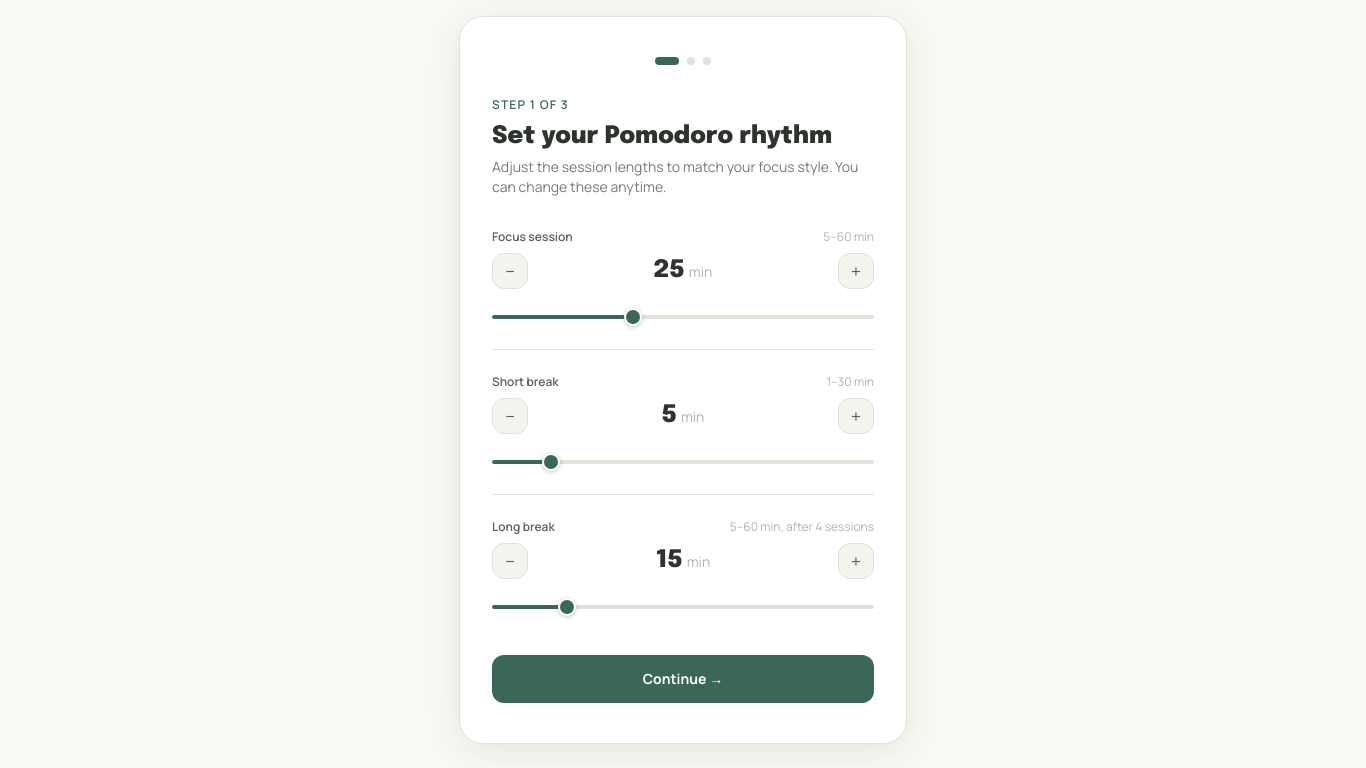
it: ON-02: clicking Continue advances to step 2
(page scrolled)
Click the button "Continue →": [683, 679] box top-left (492, 655), bottom-right (874, 703)
(page scrolled)
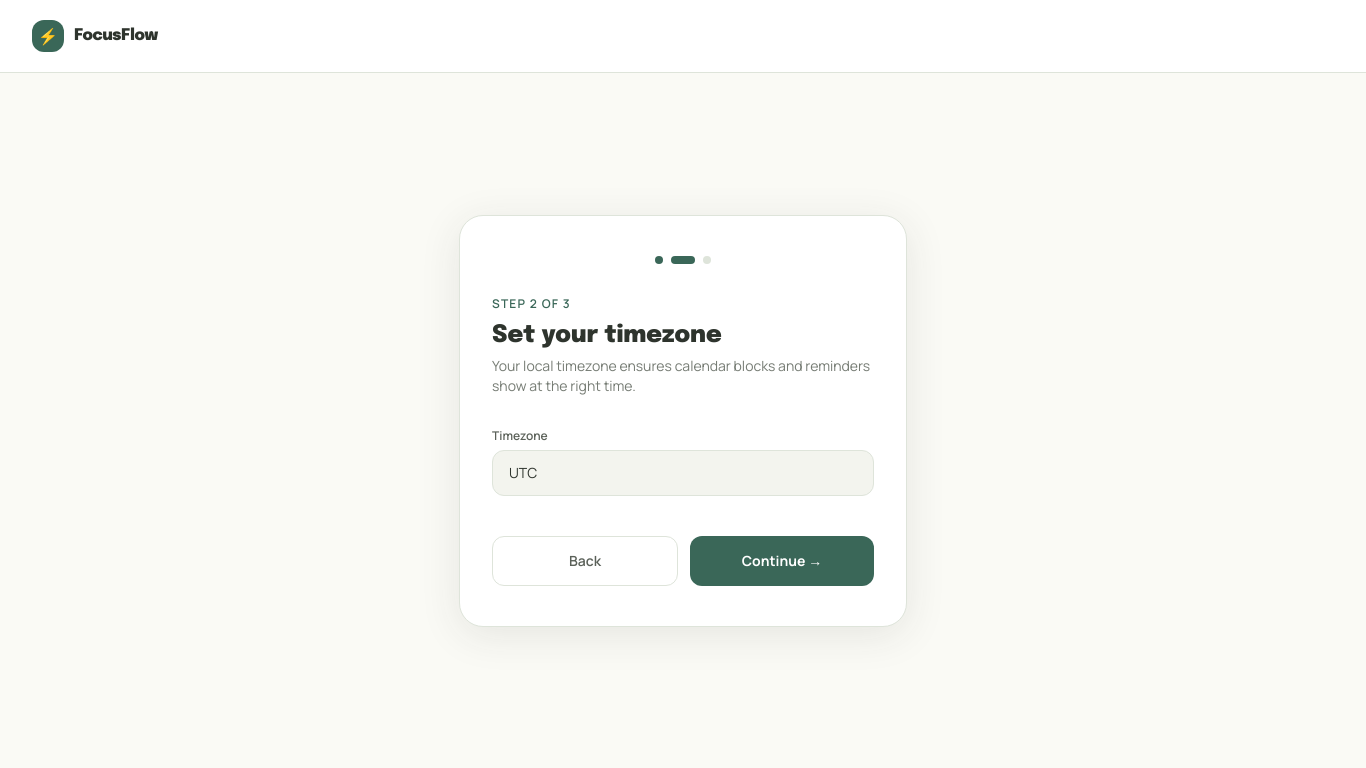
Check: the heading "Set your timezone" is shown, box top-left (492, 322), bottom-right (722, 348)
Check: the dropdown is shown, box top-left (492, 450), bottom-right (874, 496)
